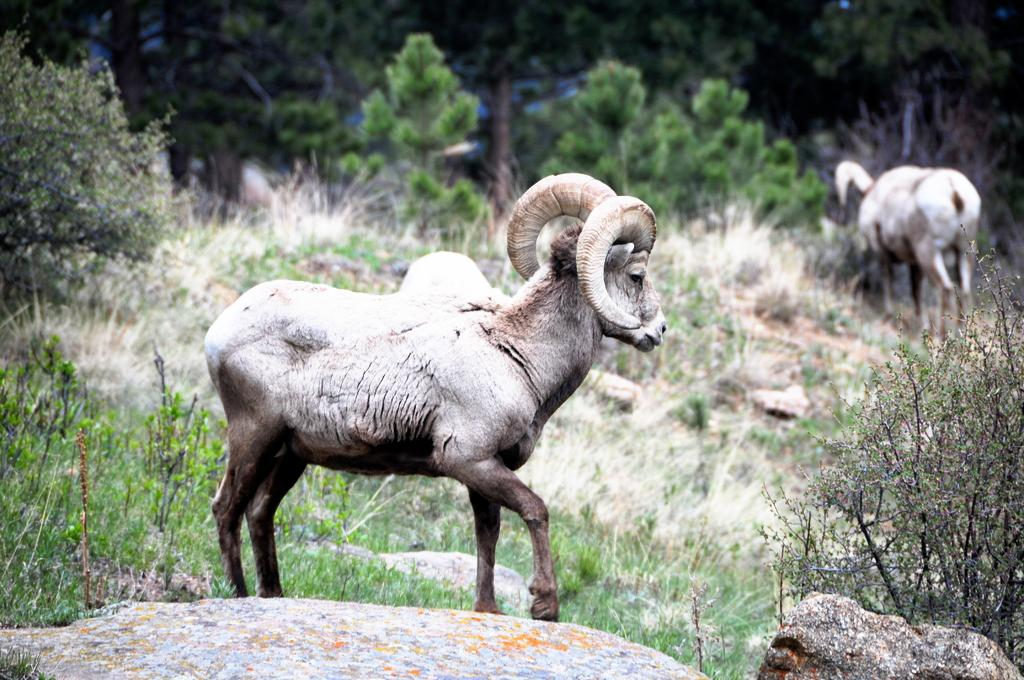Sheep: (206, 171, 668, 622), (836, 160, 982, 339)
